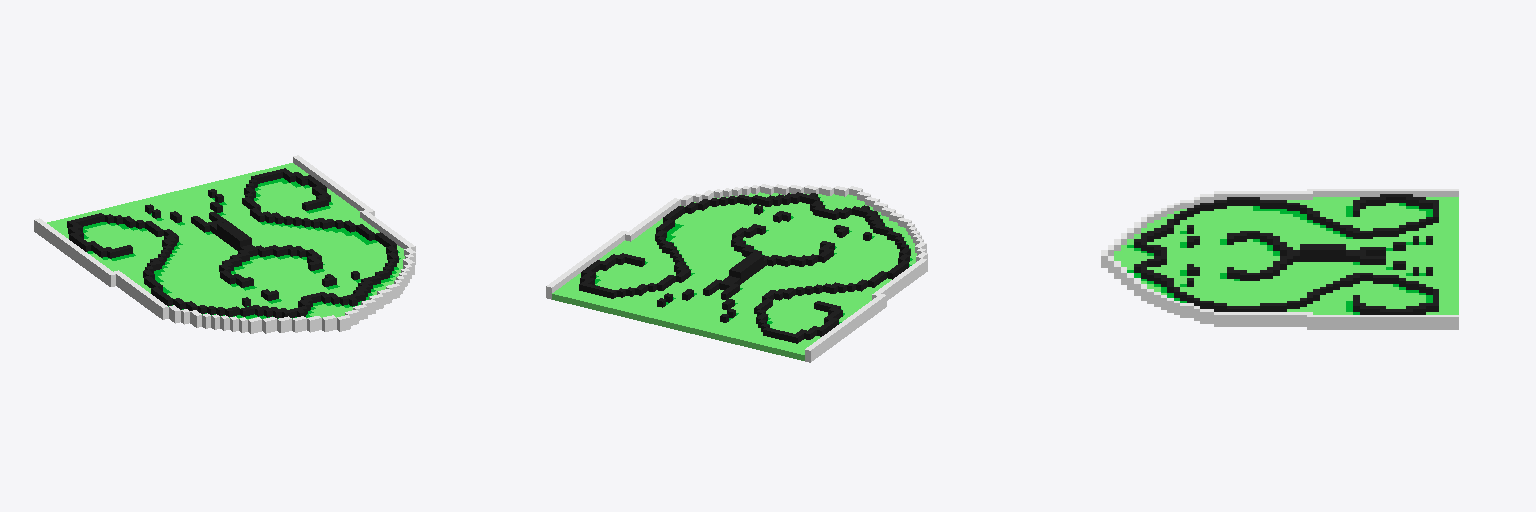
3 views of the same model, side by side, from view 1: azimuth 30°, elevation 25°; view 2: azimuth 150°, elevation 25°; view 3: azimuth 270°, elevation 25° (orthographic).
Parts seen in each view (by area): view 1: object 1; view 2: object 1; view 3: object 1.
Boxes of the visible parts, x1,y1,x2,y2 form: object 1: [34, 155, 415, 333]; object 1: [546, 184, 927, 362]; object 1: [1101, 189, 1458, 329].
Size of the model in its own units: 4.6 by 0.3 by 5.4.
1 materials, 1 textured.